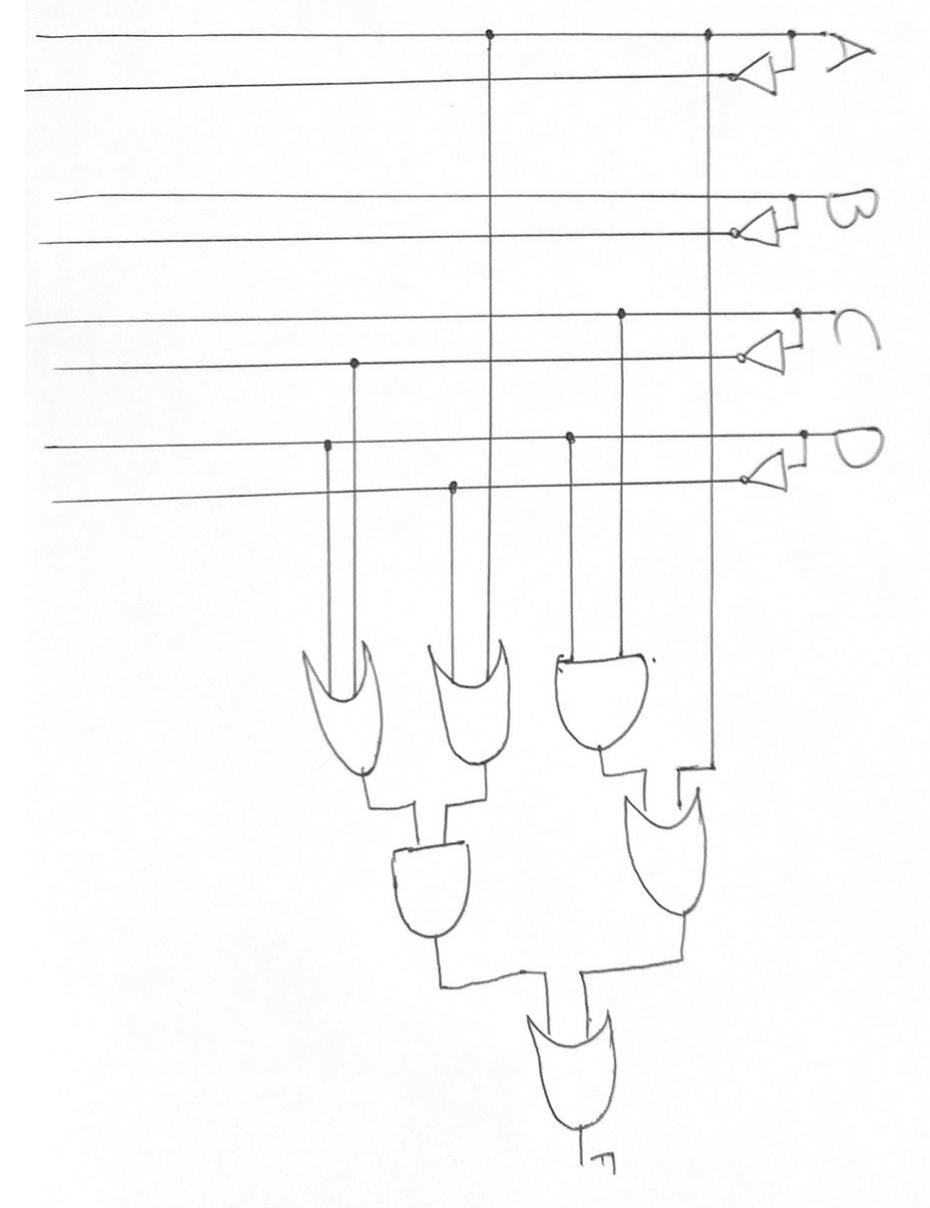AND: (372, 835, 508, 954), (548, 642, 659, 758)
NOT: (730, 445, 806, 513), (725, 47, 794, 113), (730, 325, 799, 391), (720, 208, 795, 265)
OR: (497, 1007, 655, 1140), (608, 786, 750, 933), (283, 640, 400, 788), (415, 642, 537, 781)
